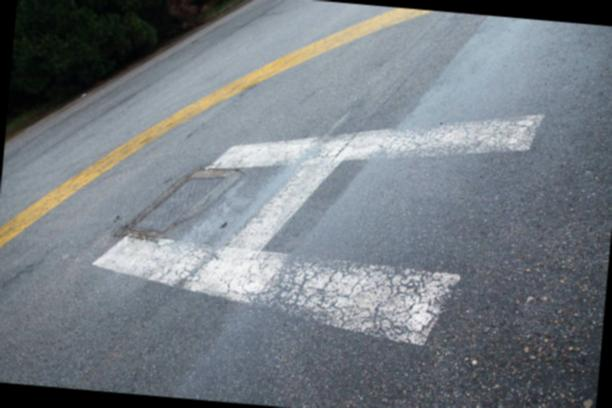faded_road_lines: (82, 74, 546, 358)
